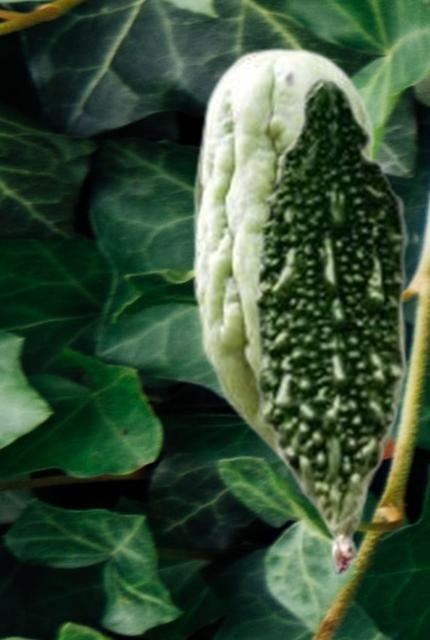ampalaya: (191, 46, 407, 575), (252, 68, 419, 533)
